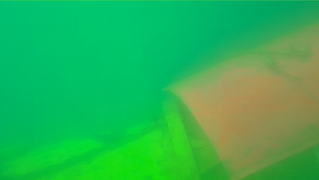leak: (162, 19, 318, 179)
pipe: (1, 97, 227, 180), (244, 142, 319, 179)
